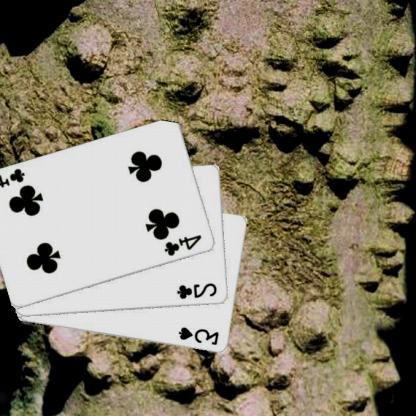2C: (177, 281, 220, 301)
3S: (178, 324, 222, 346)
4C: (164, 233, 205, 257), (0, 166, 28, 190)
